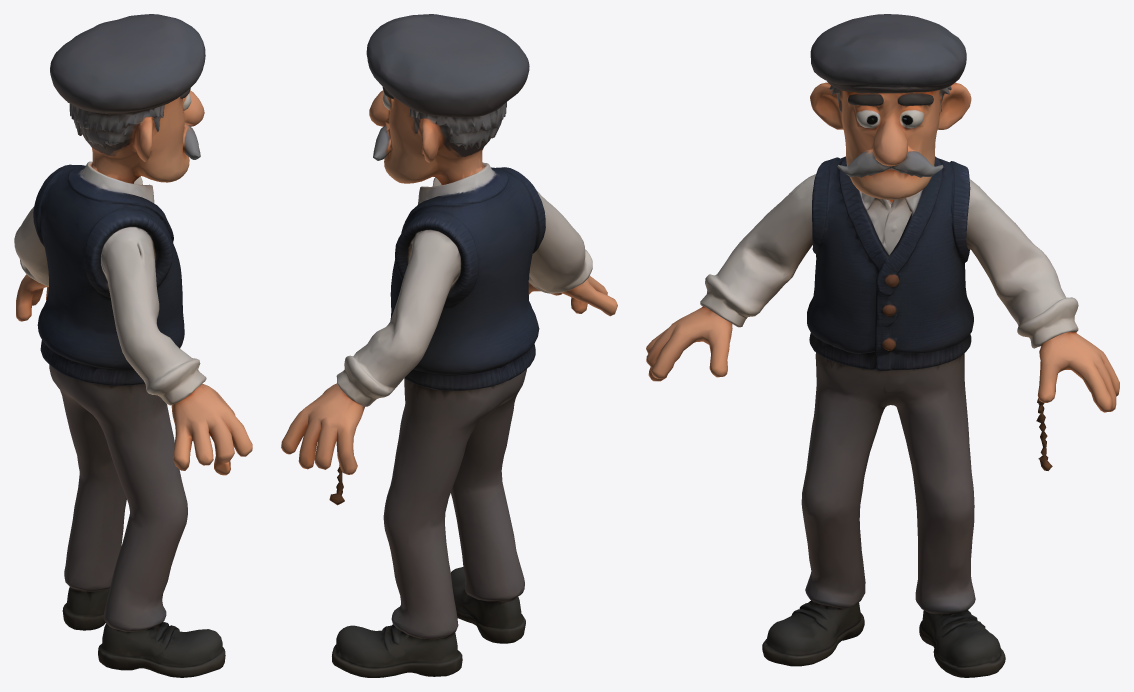
The model's file is dayi.glb.
The picture shows the model from 3 angles, left to right: view 1: azimuth 30°, elevation 25°; view 2: azimuth 150°, elevation 25°; view 3: azimuth 270°, elevation 25°; orthographic projection. The views are drawn at different scales.
Parts seen in each view (by area): view 1: tripo_node_63caebc6-212a-44b7-931f-9db2657e801e; view 2: tripo_node_63caebc6-212a-44b7-931f-9db2657e801e; view 3: tripo_node_63caebc6-212a-44b7-931f-9db2657e801e.
Boxes of the visible parts, box(x1,y1,x2,y2) form: tripo_node_63caebc6-212a-44b7-931f-9db2657e801e: box(14, 14, 252, 677); tripo_node_63caebc6-212a-44b7-931f-9db2657e801e: box(281, 14, 617, 677); tripo_node_63caebc6-212a-44b7-931f-9db2657e801e: box(646, 14, 1119, 677).
Bounding box in the file's own units: 0.263 × 1 × 0.6851.
1 material, 1 textured.
